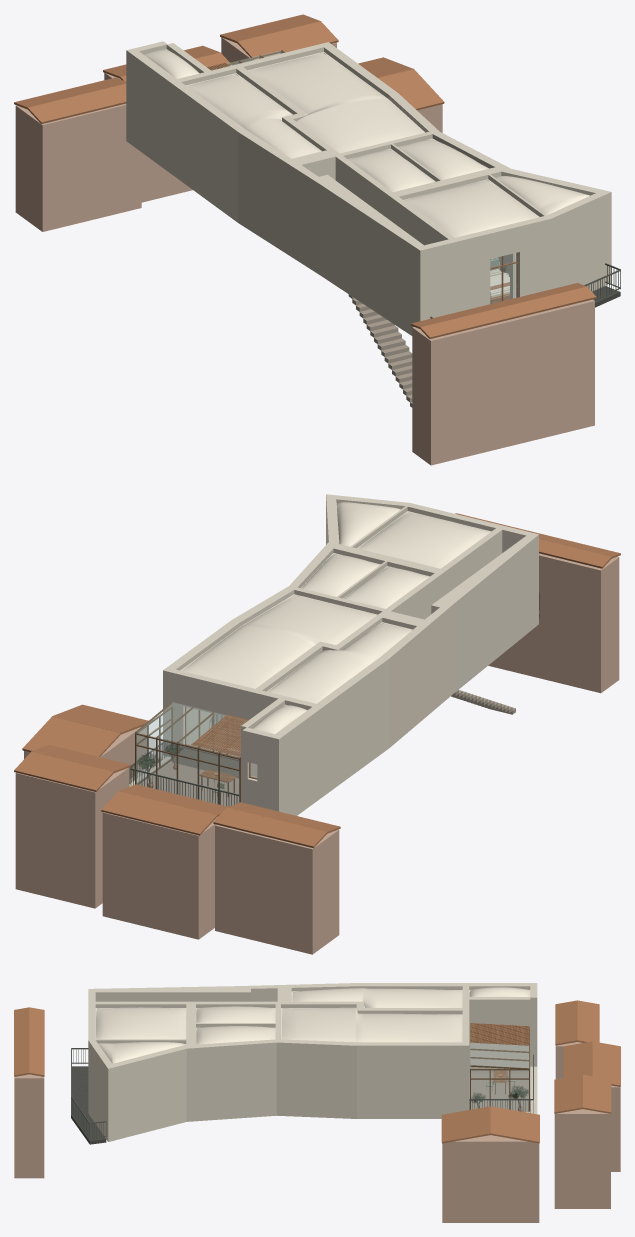
3 renders of one model, top to bottom at view 1: azimuth 30°, elevation 25°; view 2: azimuth 150°, elevation 25°; view 3: azimuth 270°, elevation 25°, orthographic. The views are drawn at different scales.
Parts seen in each view (by area): view 1: Murature DOCFA.007, Fabbricato vicino indicativo.004, Fabbricato vicino indicativo, Murature DOCFA.002, Volta ribassata indicativa.002, Murature DOCFA.003, Murature DOCFA.001, Volta ribassata indicativa.005, Volta ribassata indicativa.001, Murature DOCFA.006, Falda vicina.009, Falda vicina.005 (+13 smaller); view 2: Murature DOCFA.007, Fabbricato vicino indicativo, Fabbricato vicino indicativo.001, Fabbricato vicino indicativo.004, Fabbricato vicino indicativo.002, Volta ribassata indicativa.002, Murature DOCFA.002, Murature DOCFA.003, Murature DOCFA.001, Volta ribassata indicativa.001, Volta ribassata indicativa.005, Falda vicina.002 (+23 smaller); view 3: Murature DOCFA.007, Murature DOCFA.002, Fabbricato vicino indicativo.003, Volta ribassata indicativa.002, Fabbricato vicino indicativo.002, Murature DOCFA.003, Murature DOCFA.001, Fabbricato vicino indicativo.004, Volta ribassata indicativa.005, Volta ribassata indicativa.001, Murature DOCFA.006, Murature DOCFA (+24 smaller).
Boxes of the visible parts, x1=… form: Murature DOCFA.007: x1=126, y1=41, x2=611, y2=275; Fabbricato vicino indicativo.004: x1=412, y1=299, x2=594, y2=465; Fabbricato vicino indicativo: x1=15, y1=103, x2=141, y2=231; Murature DOCFA.002: x1=126, y1=98, x2=611, y2=321; Volta ribassata indicativa.002: x1=249, y1=53, x2=423, y2=153; Murature DOCFA.003: x1=126, y1=82, x2=611, y2=298; Murature DOCFA.001: x1=126, y1=123, x2=611, y2=330; Volta ribassata indicativa.005: x1=404, y1=180, x2=538, y2=237; Volta ribassata indicativa.001: x1=187, y1=74, x2=321, y2=158; Murature DOCFA.006: x1=126, y1=76, x2=611, y2=281; Falda vicina.009: x1=420, y1=286, x2=596, y2=338; Falda vicina.005: x1=237, y1=21, x2=338, y2=60; Murature DOCFA.007: x1=163, y1=494, x2=538, y2=764; Fabbricato vicino indicativo: x1=215, y1=824, x2=339, y2=954; Fabbricato vicino indicativo.001: x1=102, y1=812, x2=217, y2=939; Fabbricato vicino indicativo.004: x1=488, y1=553, x2=619, y2=693; Fabbricato vicino indicativo.002: x1=15, y1=767, x2=129, y2=908; Volta ribassata indicativa.002: x1=182, y1=595, x2=376, y2=688; Murature DOCFA.002: x1=163, y1=543, x2=538, y2=810; Murature DOCFA.003: x1=163, y1=527, x2=538, y2=786; Murature DOCFA.001: x1=163, y1=606, x2=538, y2=814; Volta ribassata indicativa.001: x1=268, y1=623, x2=411, y2=703; Volta ribassata indicativa.005: x1=358, y1=512, x2=490, y2=568; Falda vicina.002: x1=101, y1=791, x2=216, y2=835; Murature DOCFA.007: x1=88, y1=983, x2=537, y2=1089; Murature DOCFA.002: x1=88, y1=1036, x2=537, y2=1127; Fabbricato vicino indicativo.003: x1=442, y1=1135, x2=539, y2=1222; Volta ribassata indicativa.002: x1=282, y1=1007, x2=461, y2=1042; Fabbricato vicino indicativo.002: x1=554, y1=1109, x2=610, y2=1208; Murature DOCFA.003: x1=88, y1=1023, x2=537, y2=1107; Murature DOCFA.001: x1=88, y1=1056, x2=537, y2=1137; Fabbricato vicino indicativo.004: x1=14, y1=1074, x2=44, y2=1178; Volta ribassata indicativa.005: x1=96, y1=1007, x2=185, y2=1039; Volta ribassata indicativa.001: x1=292, y1=988, x2=461, y2=1007; Murature DOCFA.006: x1=88, y1=1007, x2=537, y2=1093; Murature DOCFA: x1=88, y1=1066, x2=537, y2=1141.
Bounding box in the file's own units: 16.21 × 8.19 × 31.84.
34 materials, 6 textured.
